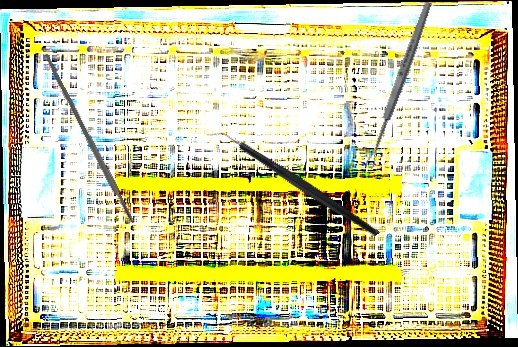Chopper: (206, 87, 380, 281)
Scalpel Handle: (42, 52, 136, 226)
Surgical Spoon: (363, 0, 434, 170)
